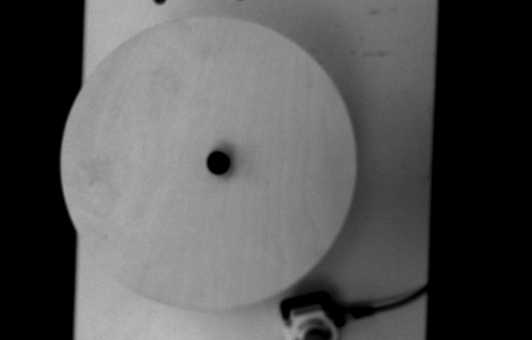cylinder up: (202, 148, 234, 181)
